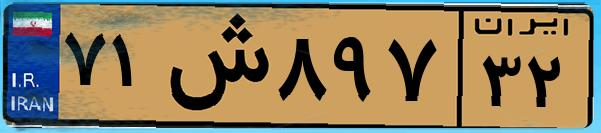1: (110, 28, 158, 98)
2: (525, 38, 570, 115)
3: (475, 38, 525, 113)
7: (385, 28, 445, 110), (57, 26, 110, 100)
8: (270, 28, 330, 110)
9: (330, 28, 385, 110)
ش: (158, 12, 270, 120)
